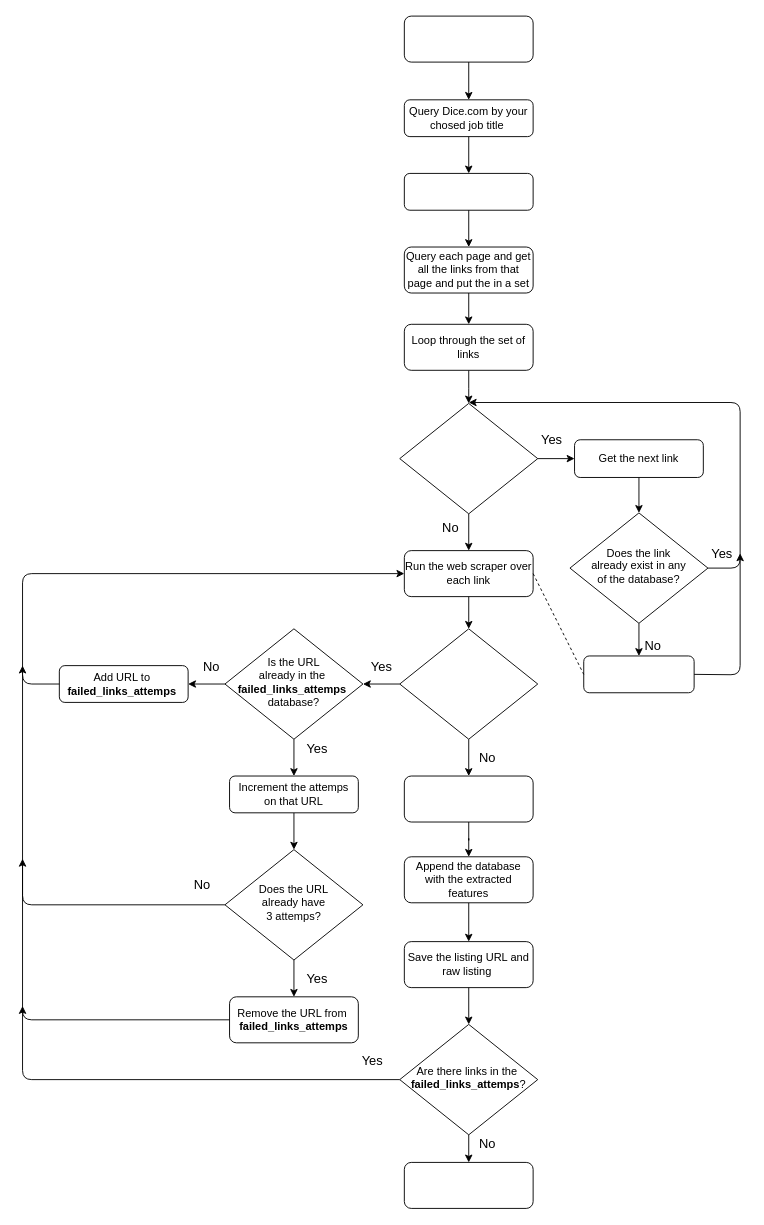
This 764x1225 diagram has some shape labels left out. Here are the shapes that lost their labels. From the top down, the box of each, then its label:
(403, 15, 533, 62): Load all imports Load all the functions Load all the databases
(403, 172, 533, 210): Get the total number of pages that have links to listings
(399, 402, 538, 514): Are there still elements in the set?
(399, 628, 538, 739): Does the listing contain a 404 code?
(583, 655, 694, 693): Add to list of links to be scraped
(403, 775, 533, 822): Extract all the features from the listing
(403, 1162, 533, 1208): End Program
